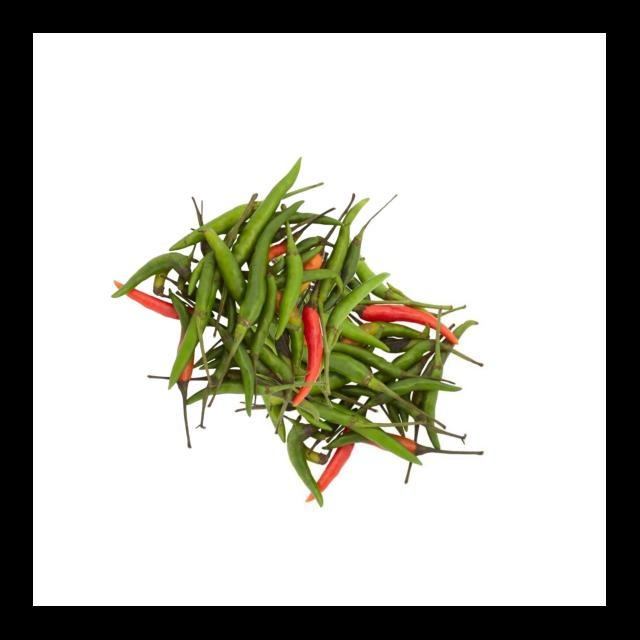chili_pepper: (232, 202, 302, 352), (232, 158, 302, 265), (328, 274, 390, 348), (276, 222, 304, 340), (304, 306, 324, 383), (294, 388, 312, 407)
